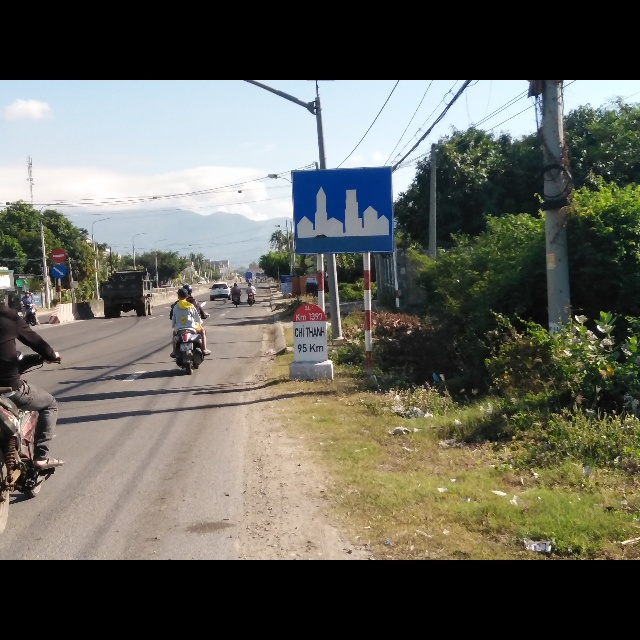Khu đông dân cư: (291, 167, 395, 255)
